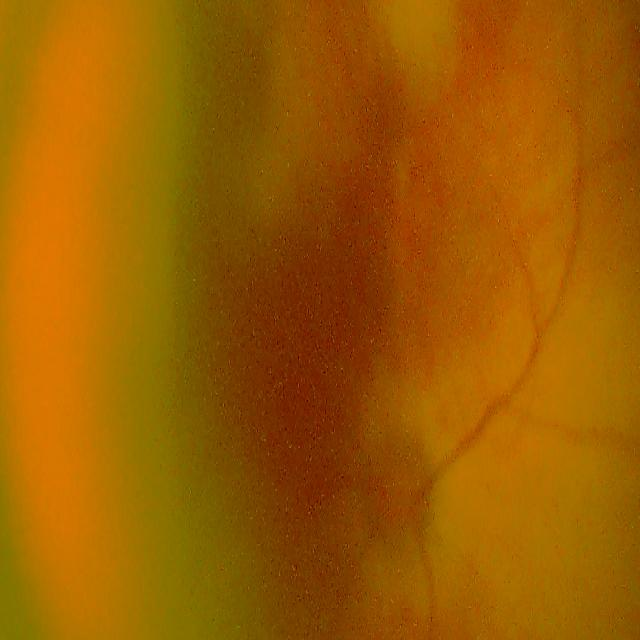optic-nerve: (344, 402, 446, 565)
